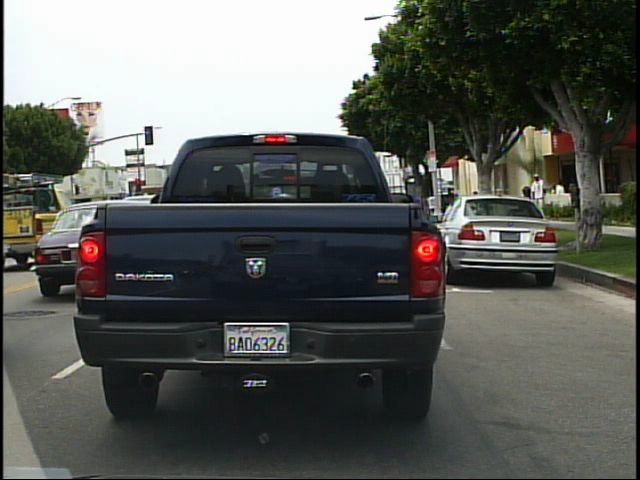person: (530, 167, 553, 218), (550, 176, 572, 221), (443, 184, 461, 221), (566, 175, 582, 201)
